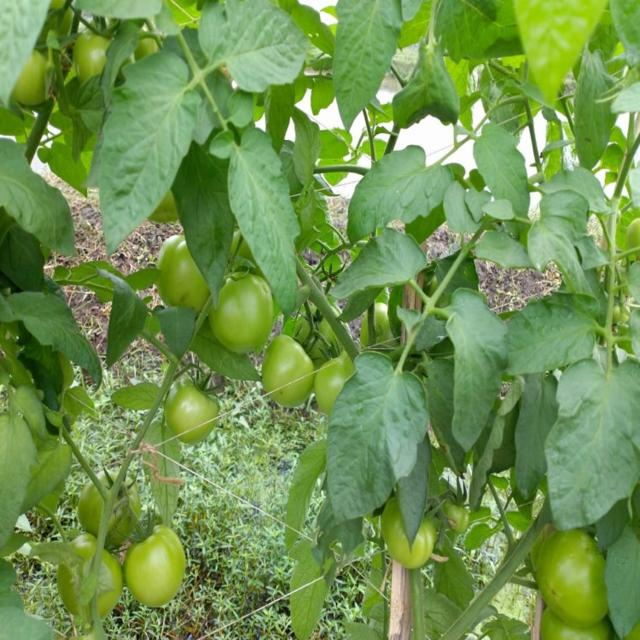tomato: (531, 531, 615, 624), (210, 273, 277, 358), (128, 529, 191, 602), (167, 376, 227, 443), (159, 239, 214, 310), (268, 337, 317, 405), (534, 604, 609, 640), (313, 353, 356, 405), (74, 24, 110, 74), (20, 48, 49, 106), (385, 511, 416, 565), (101, 552, 124, 612), (451, 494, 479, 543), (119, 478, 140, 538), (412, 514, 436, 565), (79, 474, 100, 531), (374, 297, 395, 350), (132, 39, 165, 58)
